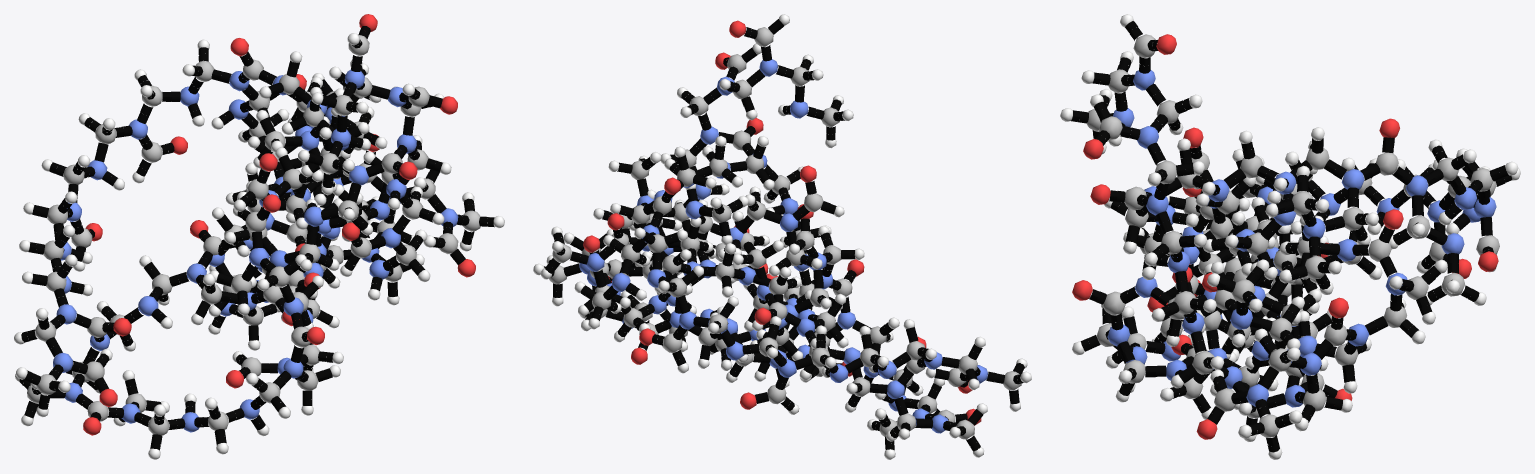
The model's file is Duroplast_Ball_black.glb.
3 views of the same model, side by side, from view 1: azimuth 30°, elevation 25°; view 2: azimuth 150°, elevation 25°; view 3: azimuth 270°, elevation 25° (orthographic). The views are drawn at different scales.
Bounding box in the file's own units: 1.18 × 0.8772 × 0.8293.
